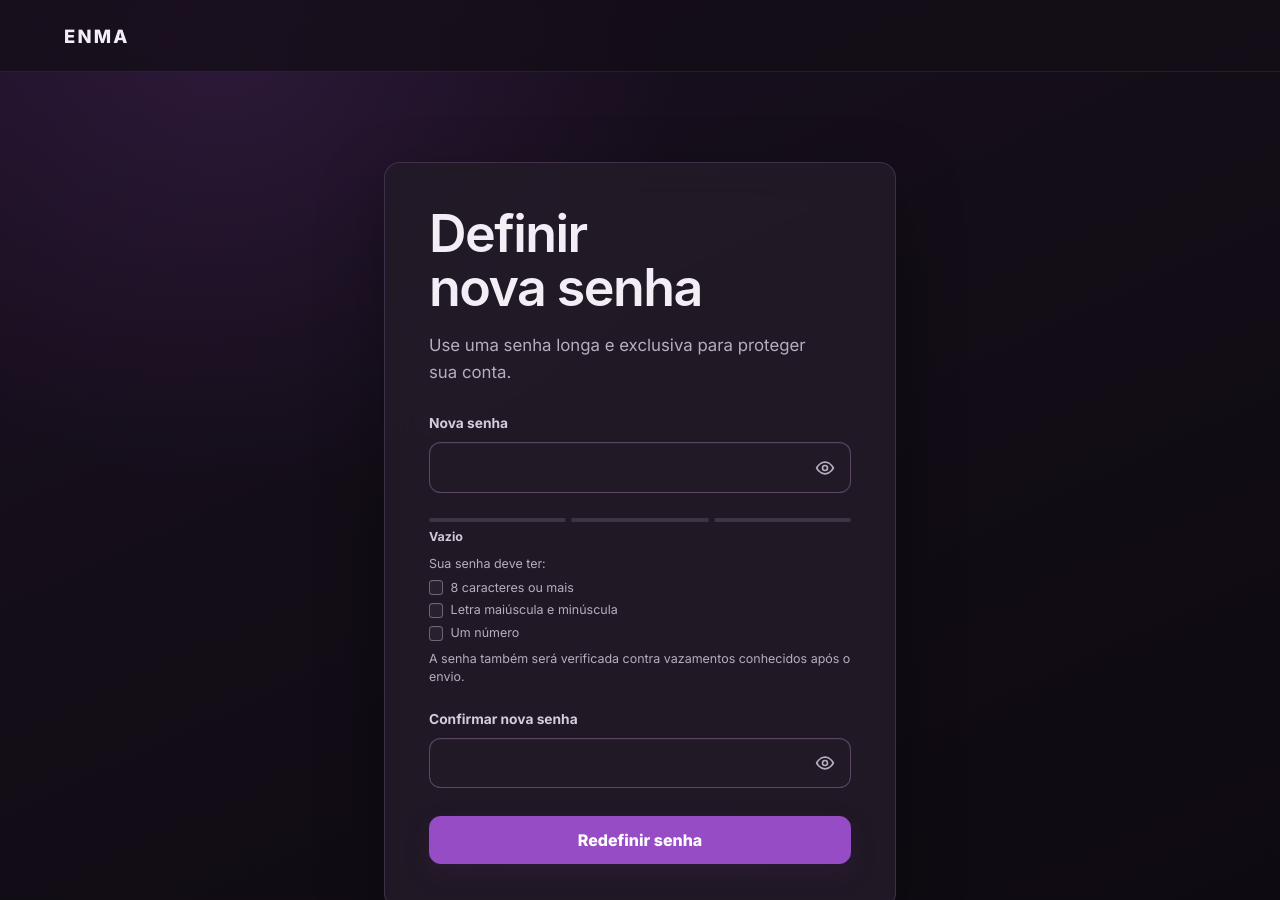
Scenario: password recovery flow › reset rejects mismatched confirmation and clears the field error on correction
In the password field labelled "Nova senha": coordinates (640, 468) [429,442,851,493], type "New-Synthetic-Password-456!"
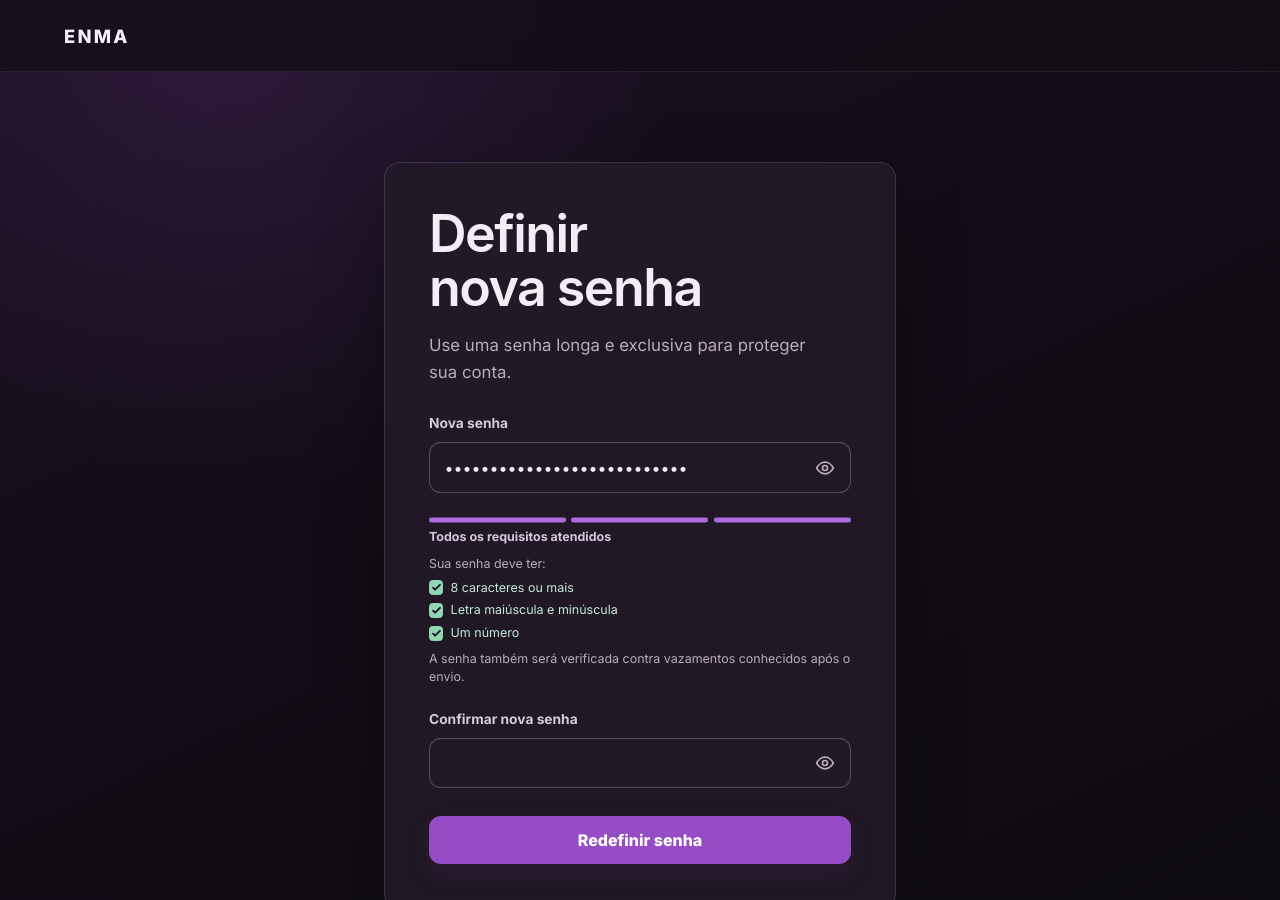
In the password field labelled "Confirmar nova senha": coordinates (640, 763) [429,738,851,788], type "different"
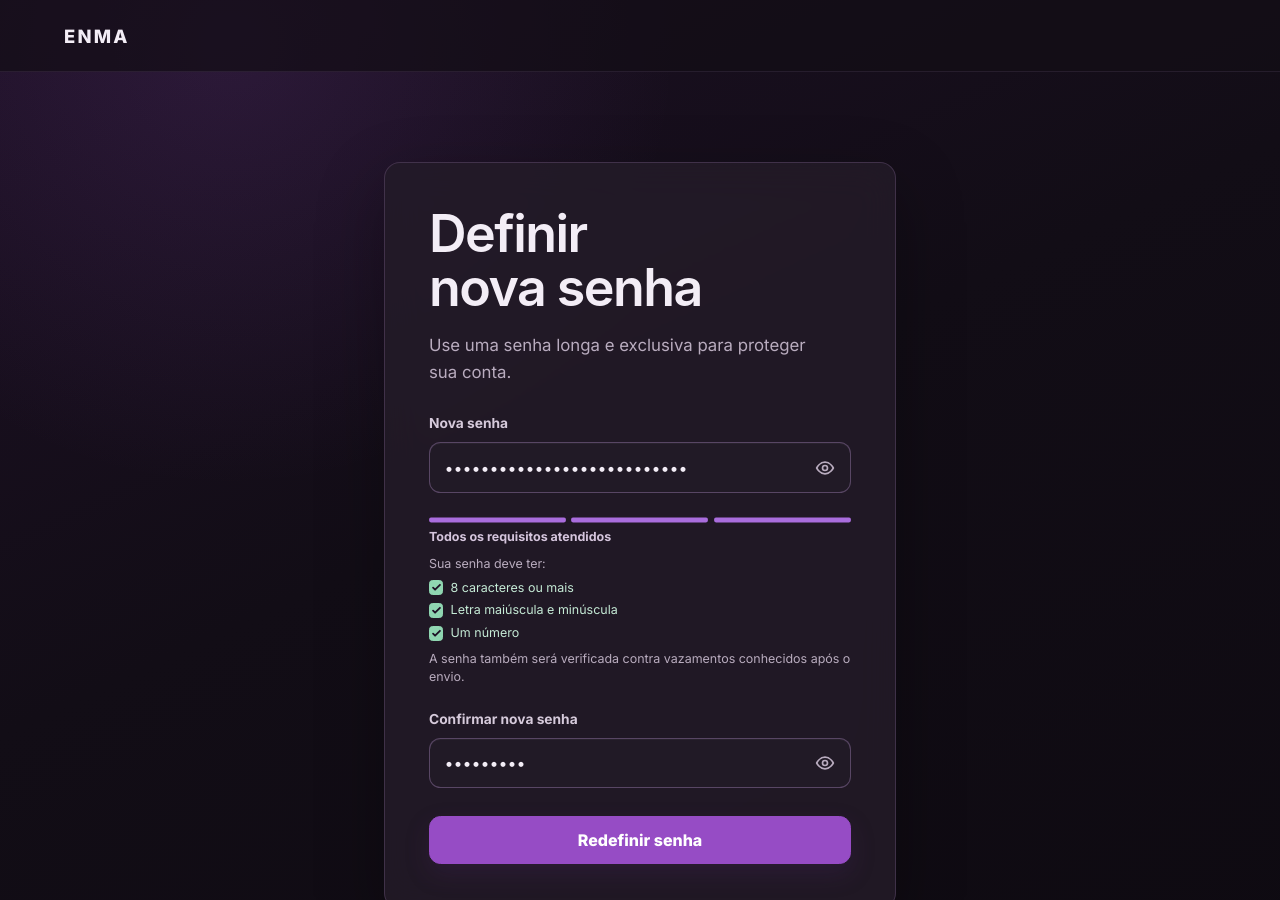
Submit the form named "Redefinir senha", box [429,415,851,864]
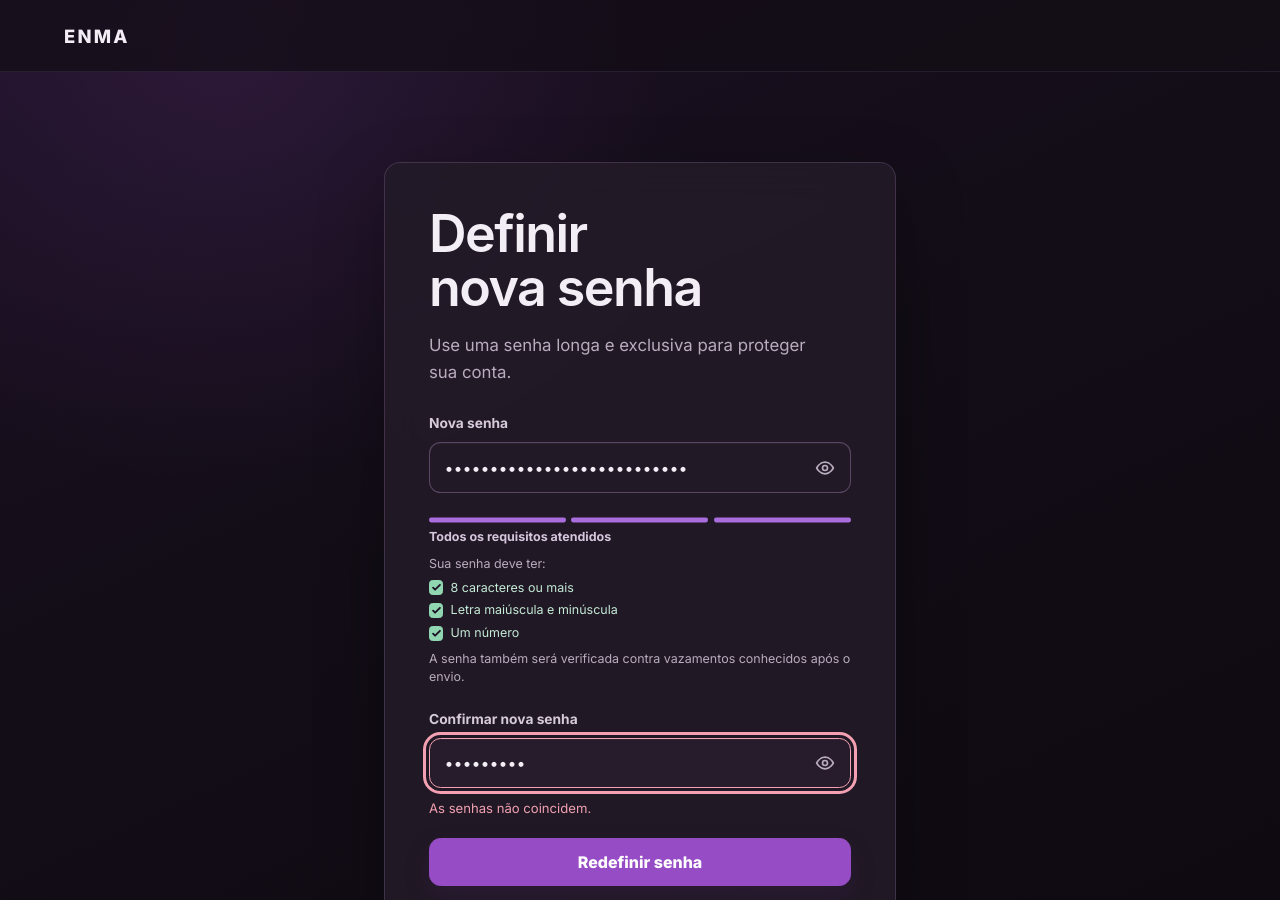
In the password field labelled "Confirmar nova senha": coordinates (640, 763) [429,738,851,788], type "New-Synthetic-Password-456!"
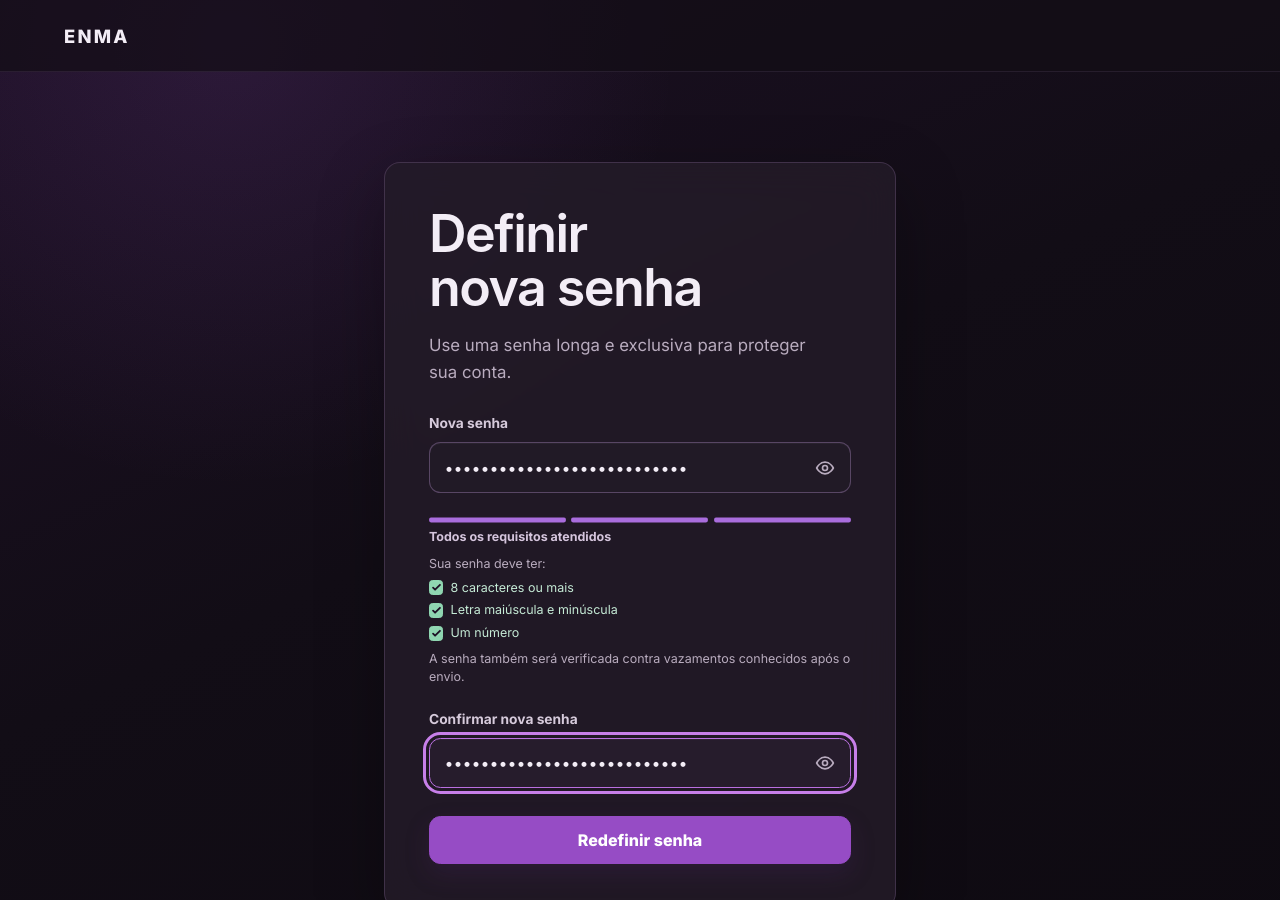
Expected: the text "As senhas não coincidem." is gone
